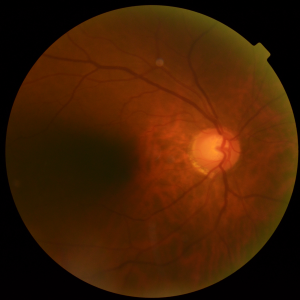glaucoma: (99, 94, 271, 204)
